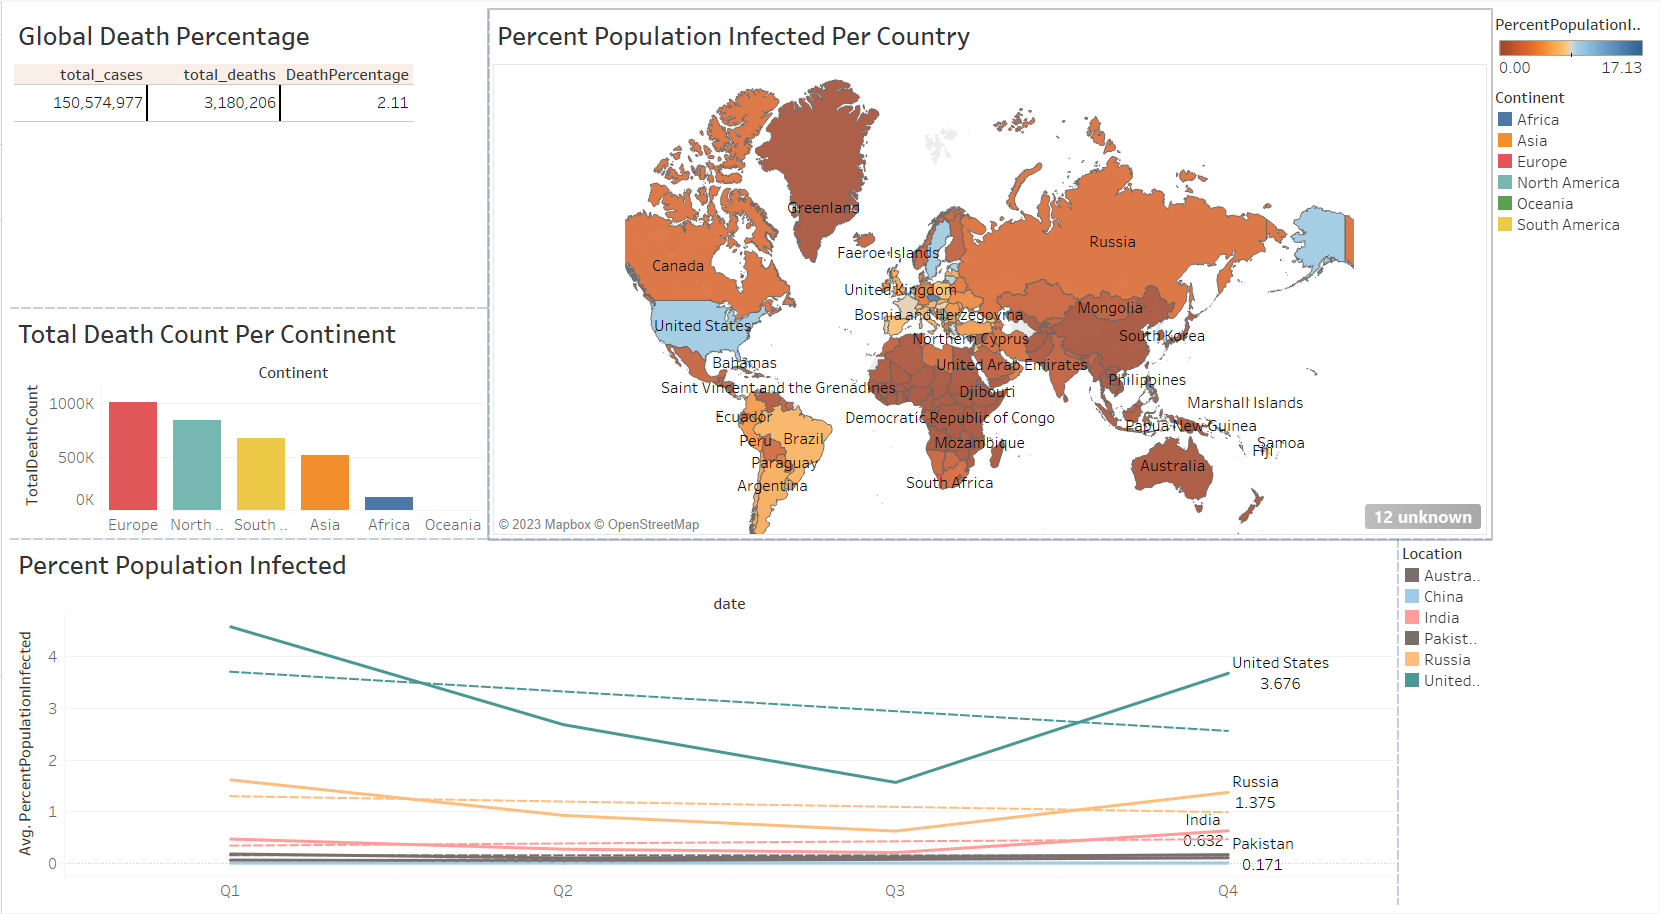

The dashboard page shown, as its layout file describes it:
{"tool":"tableau","page":{"name":"Dashboard 1","canvas":[1000,1000],"units":"permille","ordinal":0},"visuals":[{"type":"worksheet","title":"Sheet 1","mark":"Automatic","box":[4.8,8.8,289,327.5]},{"type":"worksheet","title":"Sheet 3","mark":"Automatic","box":[293.8,8.8,604.8,580.7]},{"type":"legend","title":"Sheet 3","param":"[federated.1khwabp0rnokrw1ftchn41lqmte2].[sum:PercentPopulationInfected:qk]","box":[898.6,8.8,96.6,80.1]},{"type":"legend","title":"Sheet 2","param":"[federated.0fm6jc81d48xs219itc500eqxe4g].[none:location:nk]","box":[898.6,88.9,96.6,171.2]},{"type":"worksheet","title":"Sheet 2","mark":"Automatic","rows":["TotalDeathCount"],"cols":["location"],"box":[4.8,336.3,289,253.2]},{"type":"worksheet","title":"Sheet 4","mark":"Automatic","rows":["PercentPopulationInfected"],"cols":["date"],"box":[4.8,589.5,837.7,401.8]},{"type":"legend","title":"Sheet 4","param":"[federated.1unlevo1fspawp1ab22kj0isov0t].[none:Location:nk]","box":[842.5,589.5,56.1,401.8]}]}

Visuals, with their boxes on the dashboard's canvas, which has no fixed pixel size, in thousandths of its width and height (x1, y1, x2, y2). These are canvas units, not pixel positions in the 1660x914 screenshot, which may show the page scaled, cropped or inside an application window:
"Sheet 1" worksheet: <box>5,9,294,336</box>
"Sheet 3" worksheet: <box>294,9,899,590</box>
"Sheet 3" legend: <box>899,9,995,89</box>
"Sheet 2" legend: <box>899,89,995,260</box>
"Sheet 2" worksheet: <box>5,336,294,590</box>
"Sheet 4" worksheet: <box>5,590,842,991</box>
"Sheet 4" legend: <box>842,590,899,991</box>
